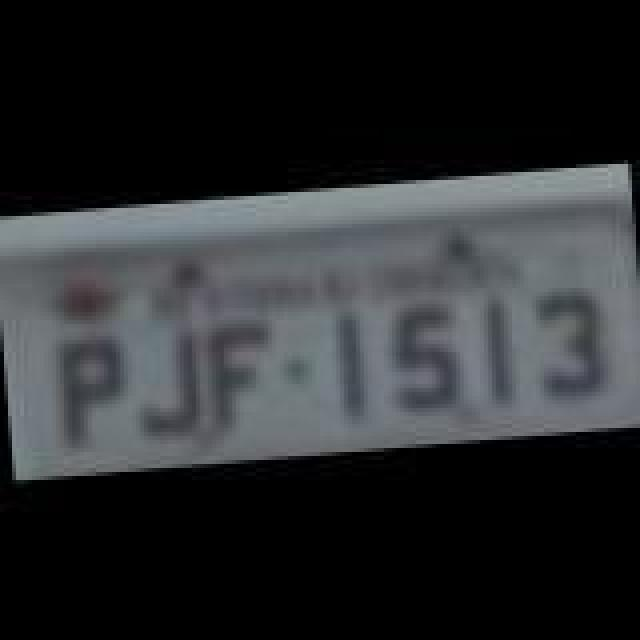1: (476, 290, 516, 406), (332, 304, 372, 416)
3: (532, 288, 612, 400)
5: (386, 302, 462, 418)
F: (204, 318, 284, 434)
J: (128, 324, 208, 436)
P: (50, 328, 134, 448)
